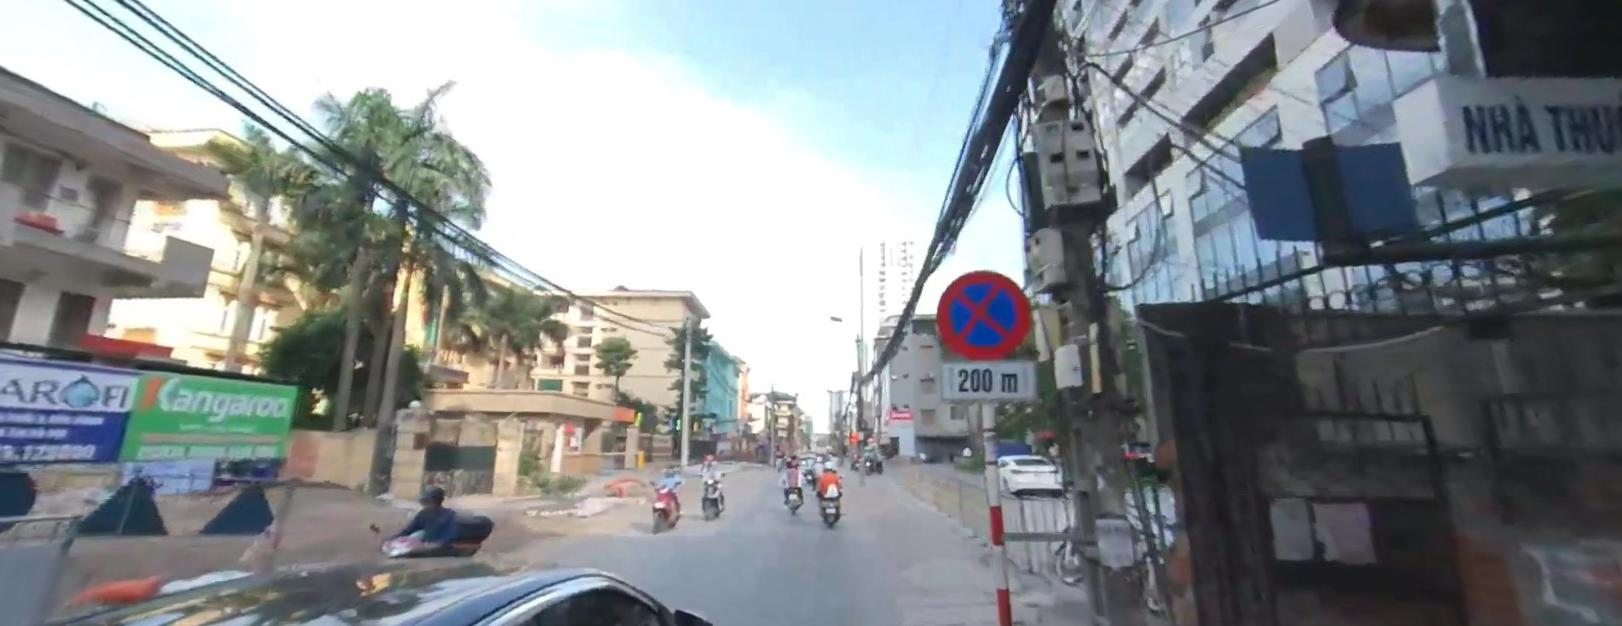Cam dung va do: (935, 267, 1030, 360)
